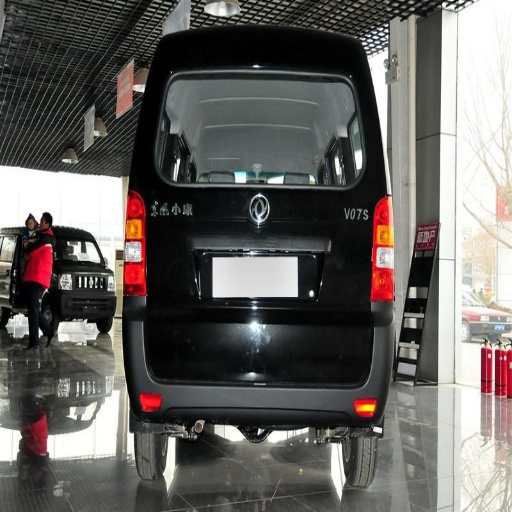back_bumper: (121, 320, 388, 438)
back_right_light: (370, 195, 395, 302)
tailgate: (183, 170, 360, 232), (257, 252, 323, 319)
trunk: (149, 208, 365, 394)
